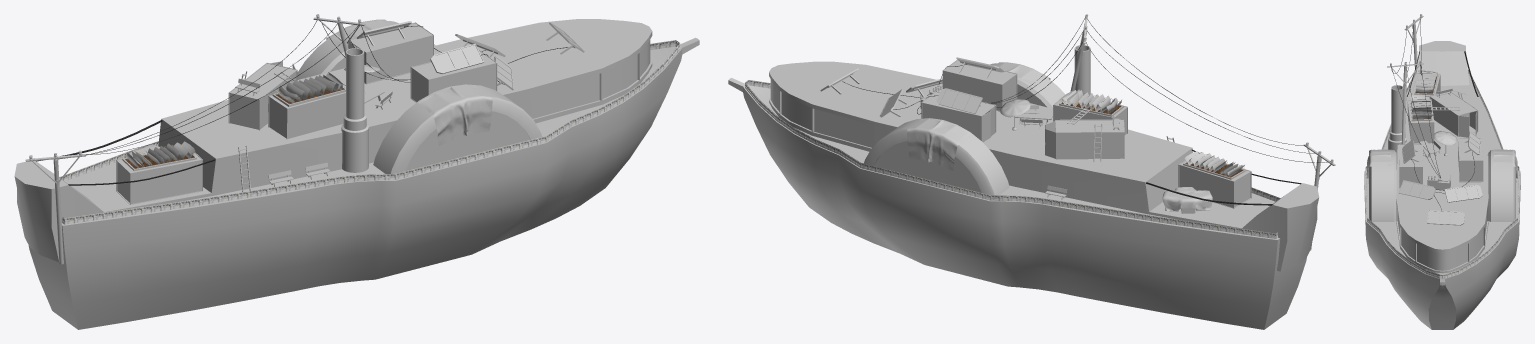
Rendered from ShipLarge01.fbx.
3 renders of one model, left to right at view 1: azimuth 30°, elevation 25°; view 2: azimuth 150°, elevation 25°; view 3: azimuth 270°, elevation 25°, orthographic. The views are drawn at different scales.
Visible parts, largest first — view 1: BoatL03, ContainersStatic, DeckAssets01, Rail, PowerAssets, ContainerP1, WheatFarms, ContainerP2, Powerline; view 2: BoatL03, DeckAssets01, ContainersStatic, PowerAssets, Rail, ContainerP2, WheatFarms, ContainerP1; view 3: BoatL03, PowerAssets, DeckAssets01, ContainersStatic, ContainerP2, Rail, WheatFarms, ContainerP1, Cube.011, Powerline.
Boxes of the visible parts, box(x1,y1,x2,y2) form: BoatL03: box(14, 19, 699, 329); ContainersStatic: box(116, 50, 497, 204); DeckAssets01: box(124, 19, 492, 191); Rail: box(59, 40, 680, 224); PowerAssets: box(25, 14, 584, 264); ContainerP1: box(348, 22, 433, 84); WheatFarms: box(122, 72, 345, 171); ContainerP2: box(228, 62, 297, 130); Powerline: box(36, 120, 214, 185); BoatL03: box(728, 45, 1319, 329); DeckAssets01: box(907, 62, 1212, 213); ContainersStatic: box(942, 59, 1251, 208); PowerAssets: box(820, 14, 1335, 250); Rail: box(744, 80, 1280, 238); ContainerP2: box(1055, 119, 1124, 159); WheatFarms: box(1059, 89, 1245, 179); ContainerP1: box(921, 91, 996, 142); BoatL03: box(1364, 41, 1520, 329); PowerAssets: box(1387, 14, 1482, 225); DeckAssets01: box(1366, 88, 1517, 183); ContainersStatic: box(1399, 72, 1440, 188); ContainerP2: box(1429, 92, 1478, 136); Rail: box(1365, 69, 1519, 278); WheatFarms: box(1410, 70, 1438, 121); ContainerP1: box(1458, 137, 1483, 182); Cube.011: box(1458, 115, 1469, 137); Powerline: box(1407, 51, 1478, 96).
Size of the model in its own units: 63.94 by 18.5 by 23.64.
